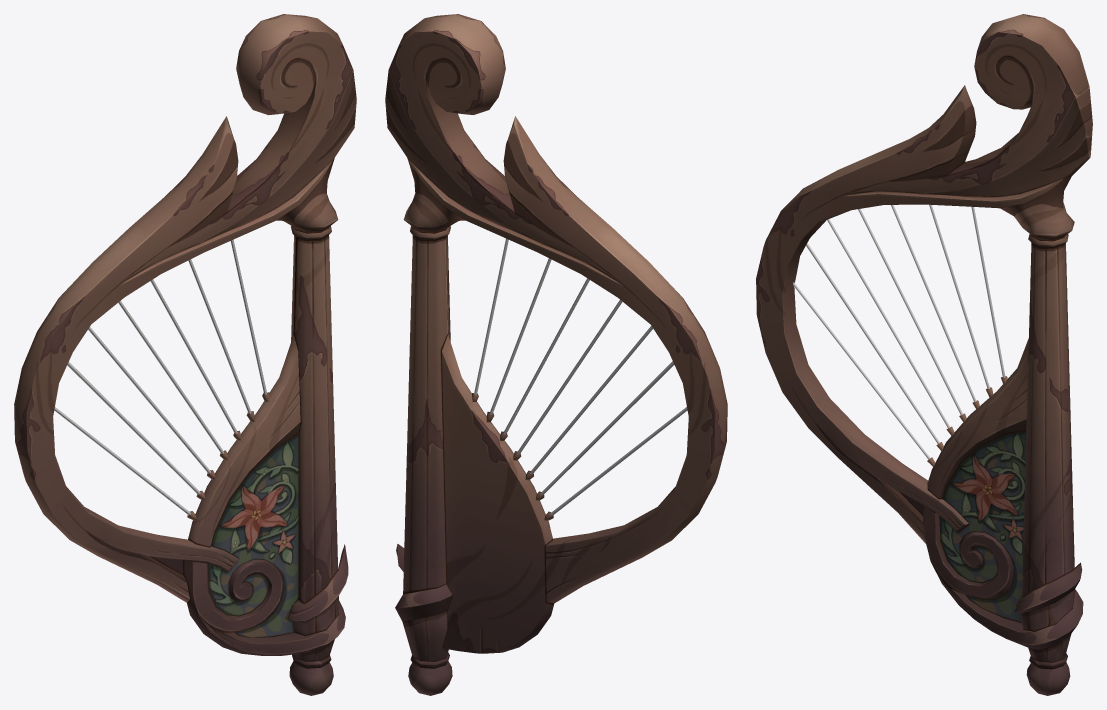
The model's file is Vintage Lyre.glb.
3 renders of one model, left to right at view 1: azimuth 30°, elevation 25°; view 2: azimuth 150°, elevation 25°; view 3: azimuth 330°, elevation 25°, orthographic.
Parts seen in each view (by area): view 1: AvatarObj_Widget_TeyvatLyre_01; view 2: AvatarObj_Widget_TeyvatLyre_01; view 3: AvatarObj_Widget_TeyvatLyre_01.
Boxes of the visible parts, <box> form: AvatarObj_Widget_TeyvatLyre_01: <box>14,14,356,695</box>; AvatarObj_Widget_TeyvatLyre_01: <box>385,14,727,695</box>; AvatarObj_Widget_TeyvatLyre_01: <box>756,14,1092,695</box>.
Size of the model in its own units: 0.2271 by 0.4363 by 0.0413.
Materials: 1 (1 with a texture image).
